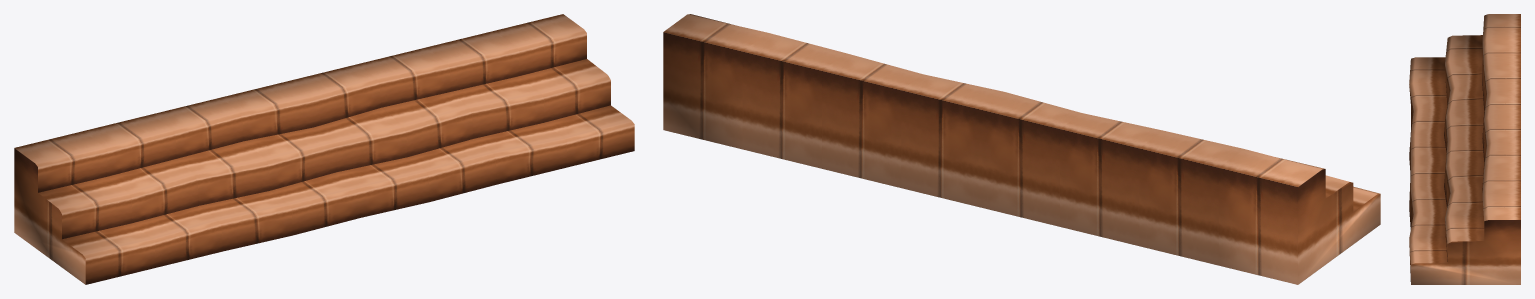
Rendered from t1_stairs.fbx.
3 views of the same model, side by side, from view 1: azimuth 30°, elevation 25°; view 2: azimuth 150°, elevation 25°; view 3: azimuth 270°, elevation 25° (orthographic). The views are drawn at different scales.
Visible parts, largest first — view 1: Cube; view 2: Cube; view 3: Cube.
Part boxes in pixels (box(x1,y1,x2,y2)): Cube: box(14, 14, 634, 284); Cube: box(663, 14, 1380, 284); Cube: box(1409, 14, 1520, 284).
Bounding box in the file's own units: 2466 × 364 × 565.
